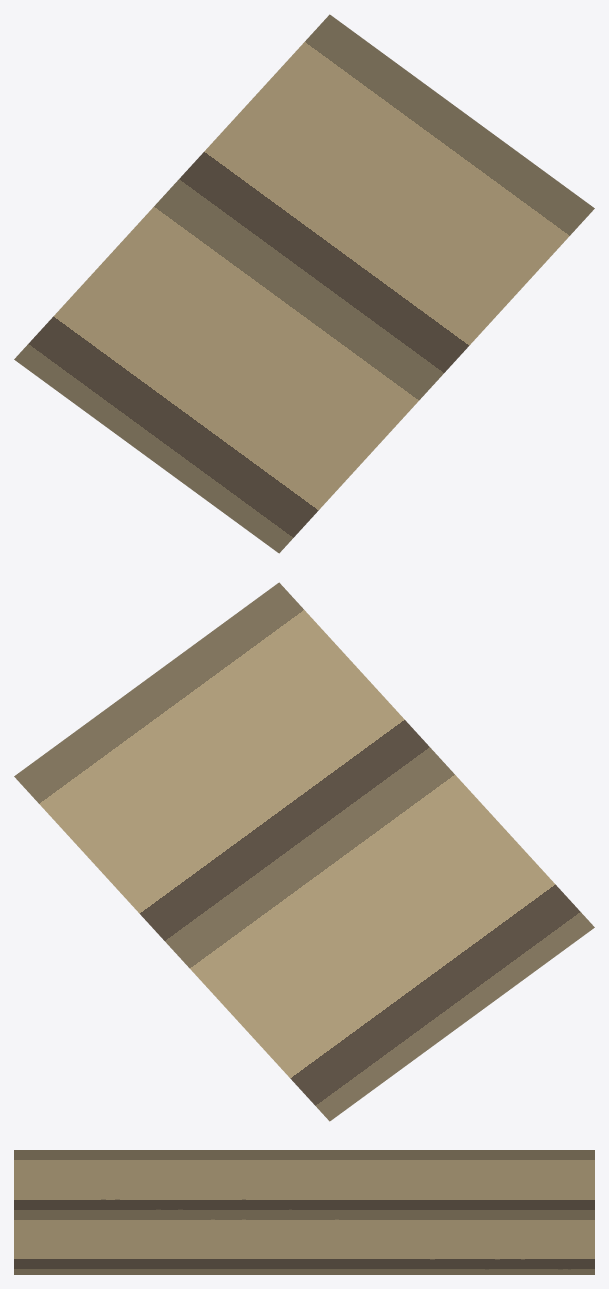
The picture shows the model from 3 angles, top to bottom: view 1: azimuth 30°, elevation 25°; view 2: azimuth 150°, elevation 25°; view 3: azimuth 270°, elevation 25°; orthographic projection. The views are drawn at different scales.
Bounding box in the file's own units: 0.6875 × 0.5578 × 1.
1 material, 1 textured.
